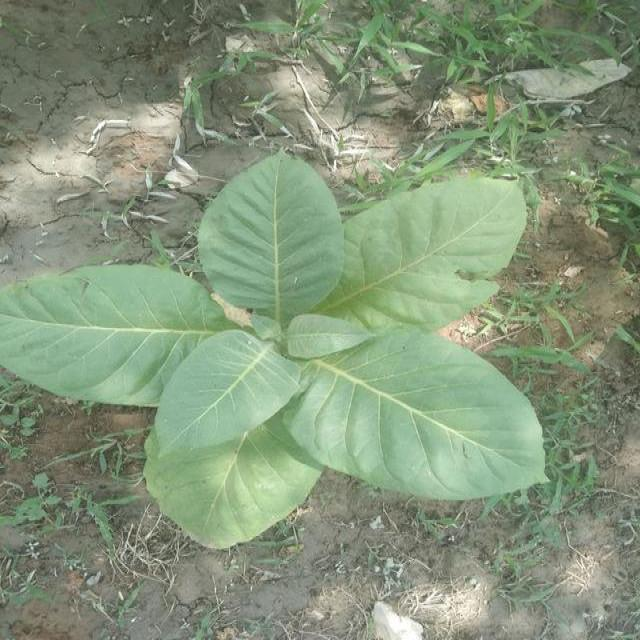crop: (6, 111, 551, 552)
